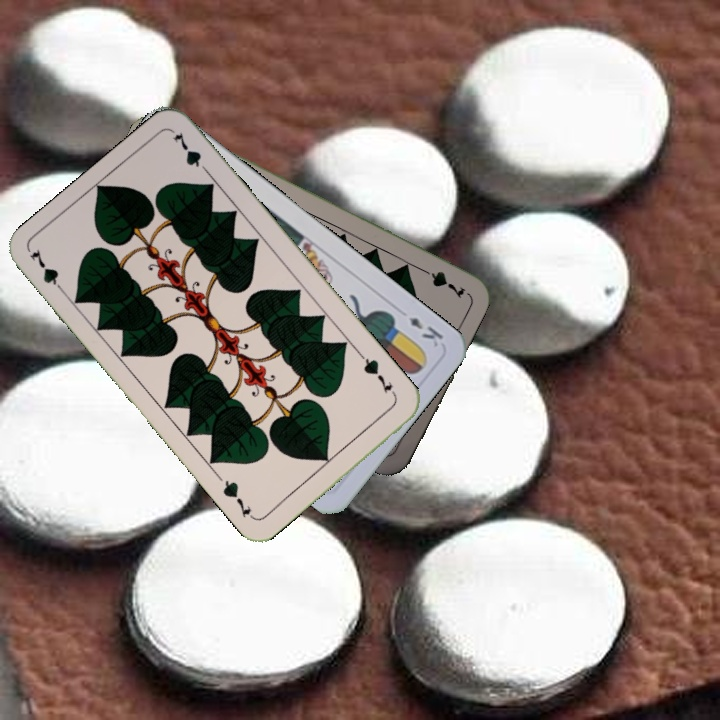EK: (404, 313, 446, 350)
G7: (25, 245, 70, 298), (356, 351, 400, 400), (412, 262, 468, 298)
